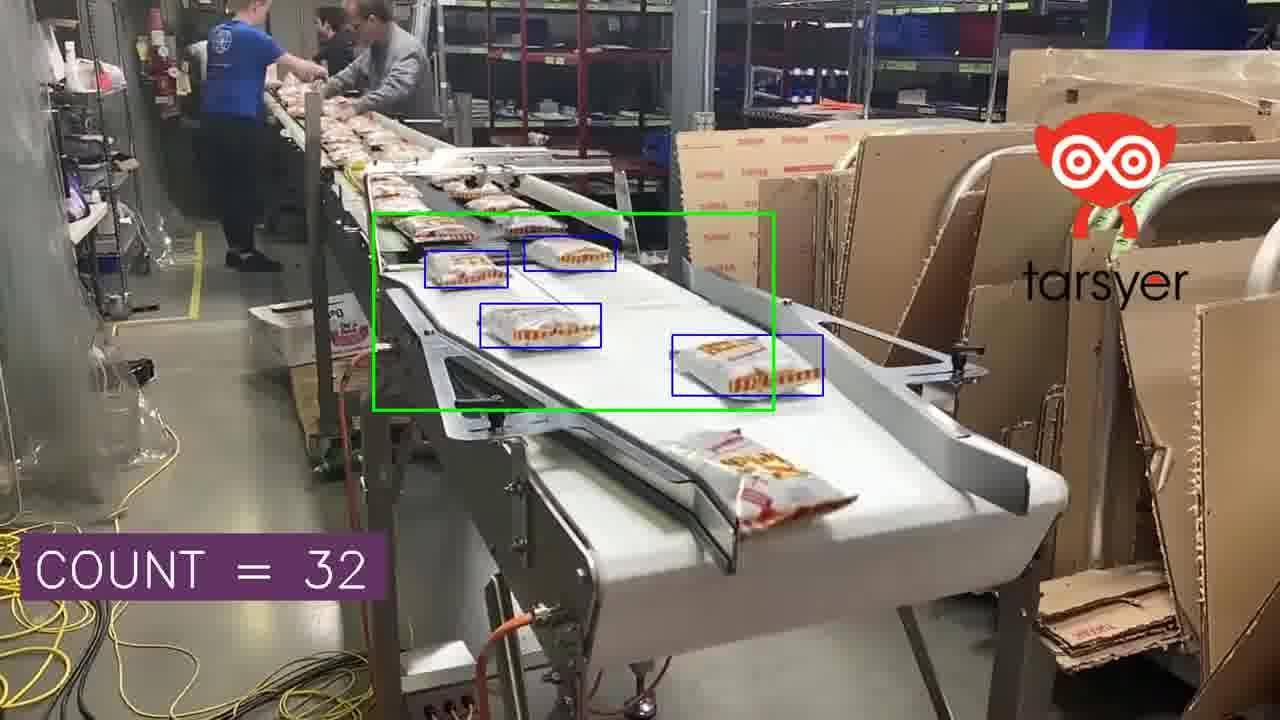Snack: (665, 431, 856, 533), (674, 337, 771, 395), (482, 305, 599, 347), (426, 251, 506, 286), (525, 238, 614, 269), (391, 216, 479, 244), (493, 215, 566, 238), (371, 141, 430, 163), (369, 175, 420, 200), (442, 180, 502, 200), (465, 193, 530, 211), (371, 195, 429, 212), (326, 144, 370, 165), (360, 128, 401, 146), (430, 171, 466, 190), (347, 115, 381, 135)
